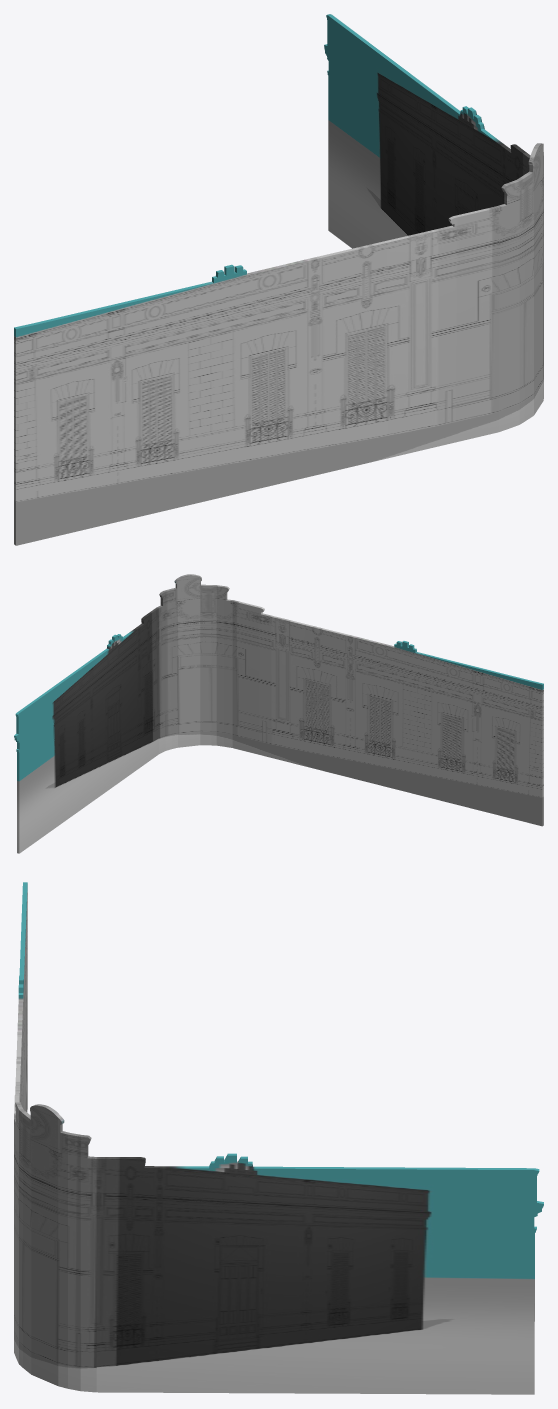
Rendered from modelo3D_CCUNGS00_SinFondo001.obj.
3 views of the same model, one above another, from view 1: azimuth 30°, elevation 25°; view 2: azimuth 150°, elevation 25°; view 3: azimuth 270°, elevation 25° (orthographic). The views are drawn at different scales.
Visible parts, largest first — view 1: Plane; view 2: Plane; view 3: Plane.
Boxes of the visible parts, x1,y1,x2,y2 form: Plane: (14, 14, 543, 545); Plane: (14, 574, 543, 853); Plane: (14, 882, 543, 1394).
Size of the model in its own units: 6.8 by 3.03 by 5.33.
Materials: 1 (1 with a texture image).
